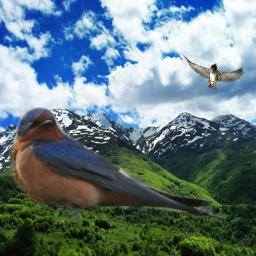Swallow: (9, 107, 235, 223), (182, 54, 245, 91)
